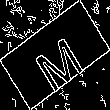M_NW: (25, 21, 85, 89)
